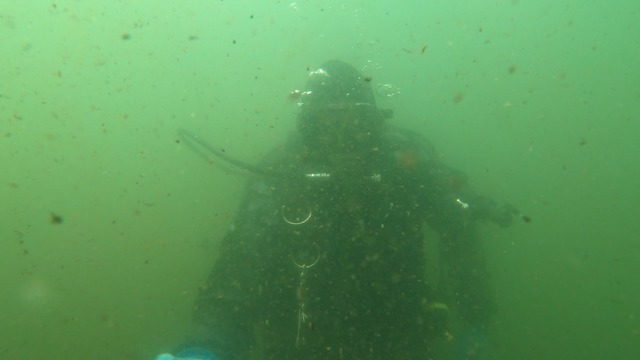Diver: (145, 46, 523, 356)
Head: (289, 51, 397, 203)
